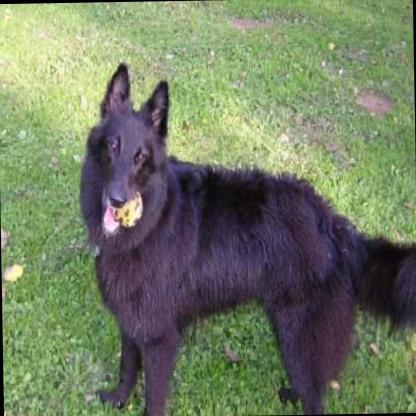groenendael: (75, 55, 416, 415)
